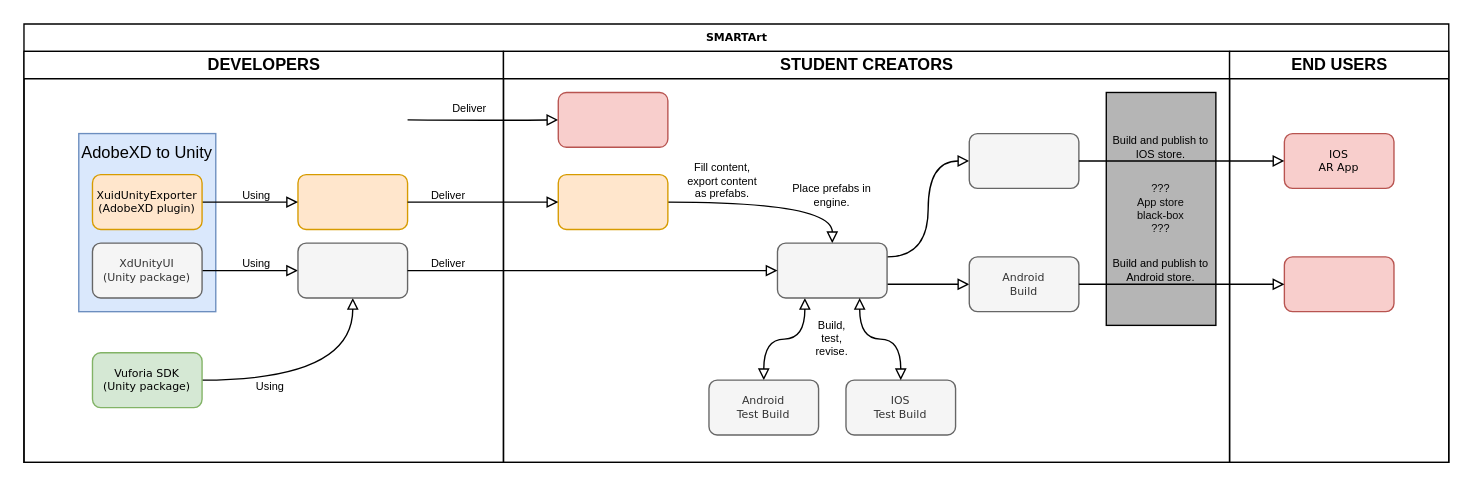
Some shapes in this 1473 by 486 pixel diagram are drawn without their labels. Each missing label, with the centre of its shape:
AdobeXD: (x=352, y=201)
Android AR App: (x=1338, y=284)
Documentation: (x=612, y=119)
IOS Build: (x=1023, y=160)
SMARTArt AdobeXD Template: (x=612, y=201)
SMARTArt Unity AR Template: (x=831, y=270)
Unity: (x=352, y=270)
